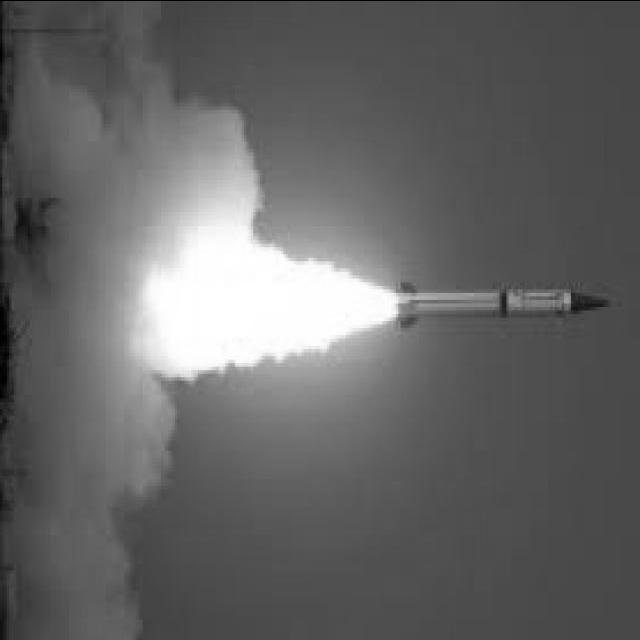missile: (392, 277, 613, 330)
